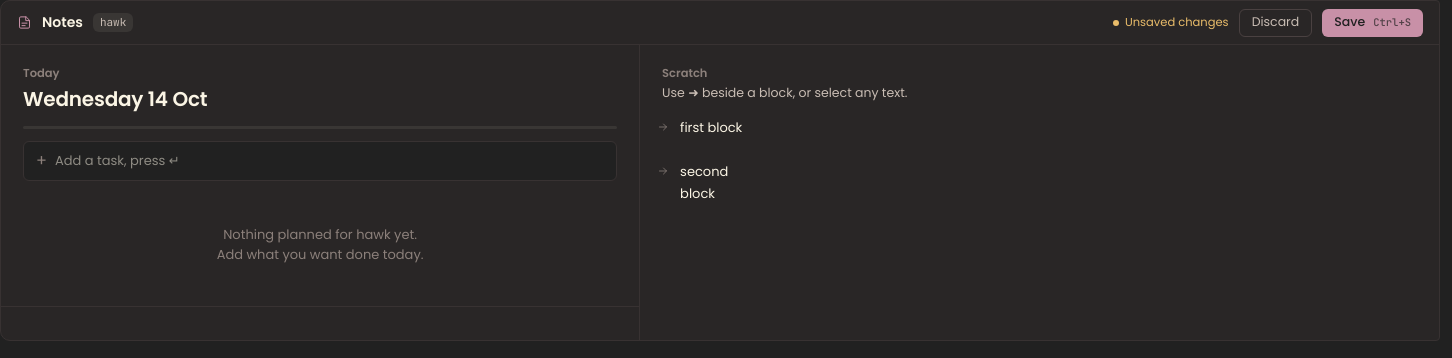
Scenario: Notes — Scratch › has a ➜ per block that sends it to a running session
The width and height of the screenshot is (1452, 358).
Step 1. Click the element named "Send block 2 to a session" → [663, 171], box [657,165,669,177]
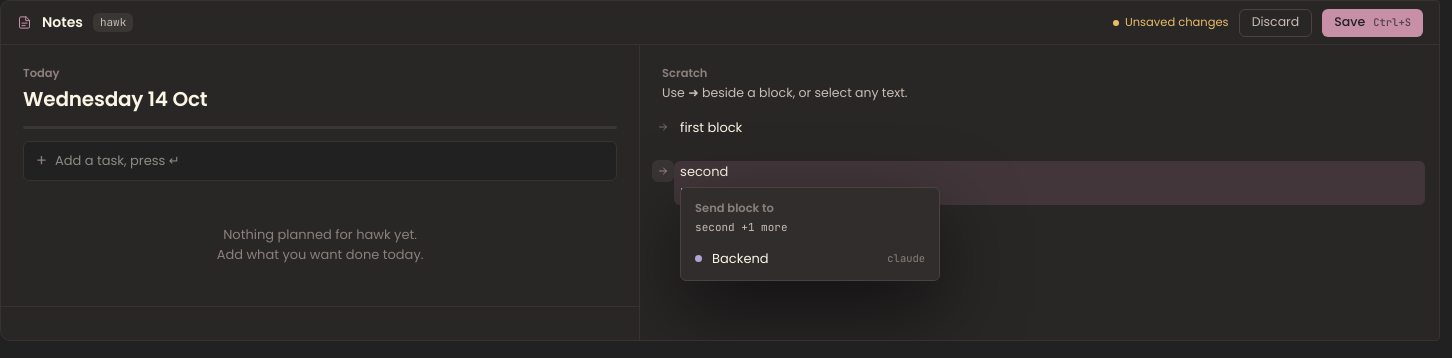
Expected: the text "Send block to" is shown, [695,200,774,216]
Expected: the text "second +1 more" is shown, [695,220,788,234]
Step 2. Click the menu item "Backend claude" → [740, 258], box [695,249,925,268]
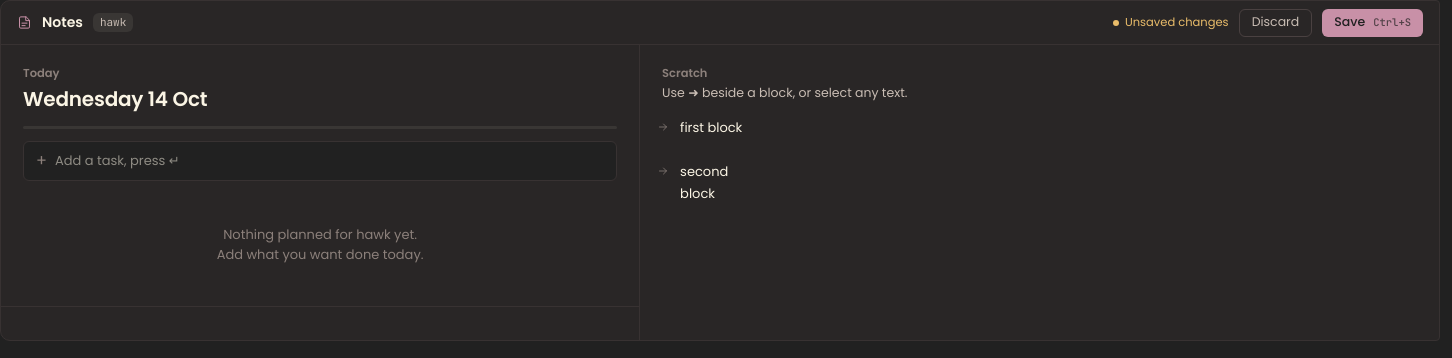
Expected: the menu is gone
